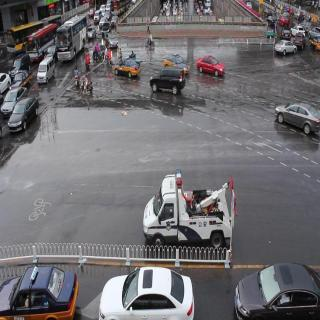BigCar: (7, 18, 60, 54), (52, 16, 89, 65), (22, 28, 58, 62)
Car: (134, 162, 242, 270), (222, 246, 319, 320), (94, 253, 199, 320), (0, 259, 80, 320), (271, 88, 320, 144), (7, 92, 39, 137), (149, 66, 186, 100), (159, 48, 195, 82), (111, 53, 144, 87), (192, 50, 224, 85), (273, 36, 307, 62), (35, 53, 53, 85), (9, 71, 35, 90)
